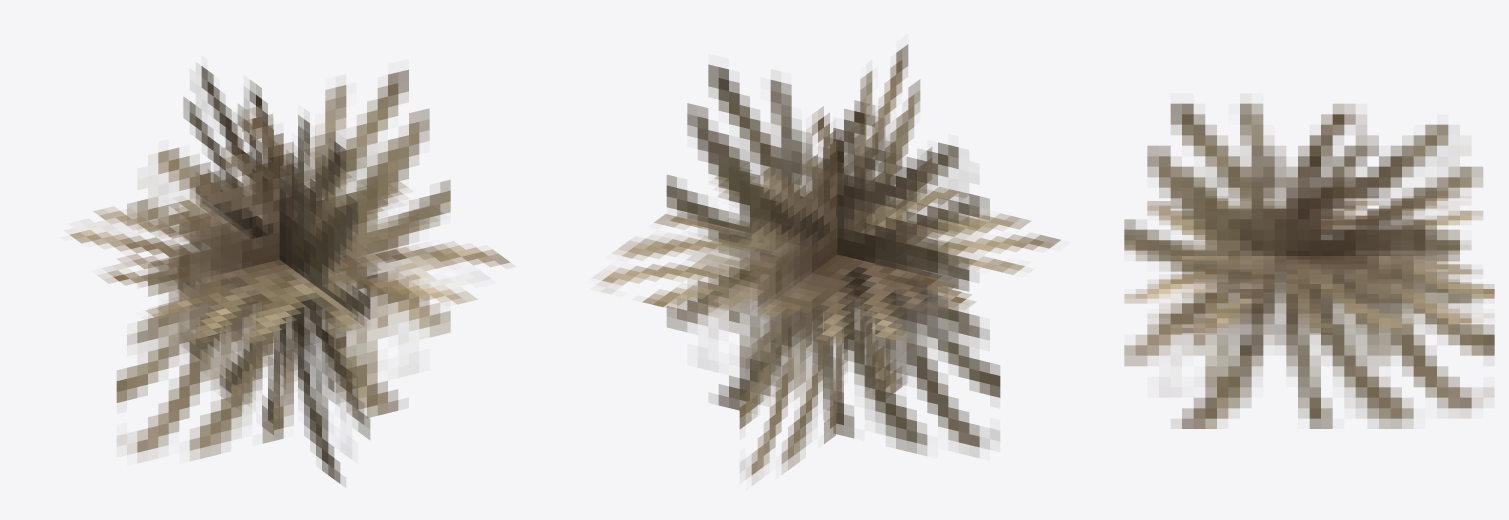
The picture shows the model from 3 angles, left to right: view 1: azimuth 30°, elevation 25°; view 2: azimuth 150°, elevation 25°; view 3: azimuth 270°, elevation 25°; orthographic projection. The views are drawn at different scales.
Visible parts, largest first — view 1: model_Object54; view 2: model_Object54; view 3: model_Object54.
Part boxes in pixels (bbox=[...]): model_Object54: bbox=[69, 66, 515, 486]; model_Object54: bbox=[593, 44, 1060, 485]; model_Object54: bbox=[1124, 103, 1494, 428].
Bounding box in the file's own units: 0.4745 × 0.474 × 0.474.
1 material, 1 textured.
